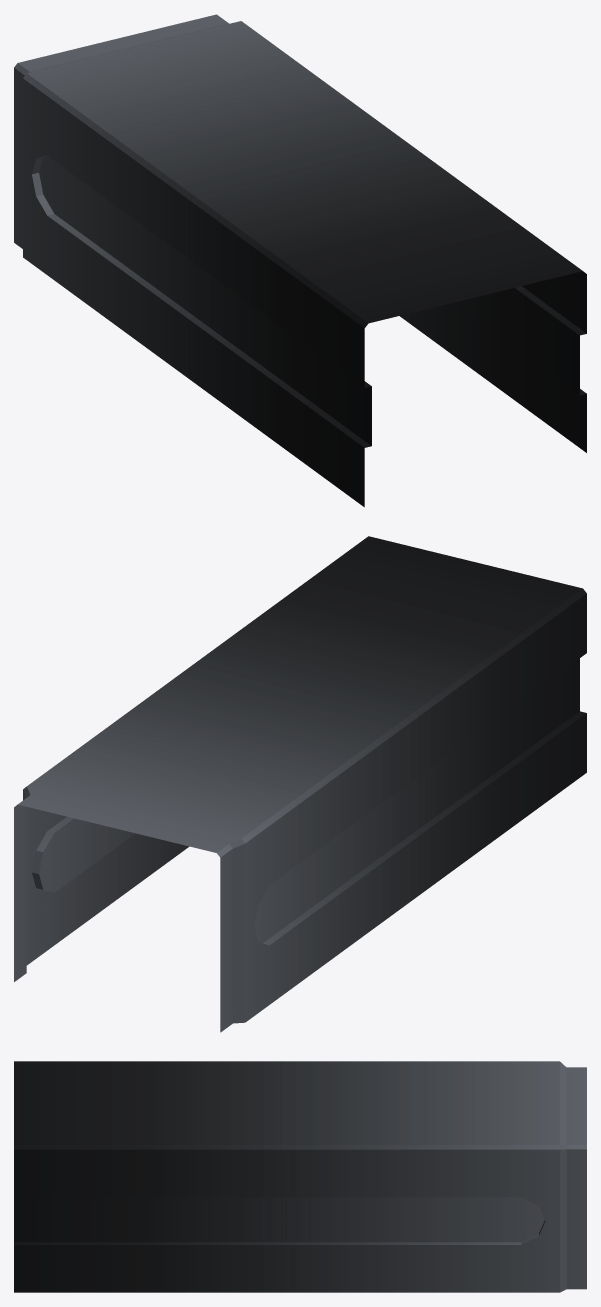
Rendered from Entrance 01 Btm.FBX.
3 views of the same model, one above another, from view 1: azimuth 30°, elevation 25°; view 2: azimuth 150°, elevation 25°; view 3: azimuth 270°, elevation 25° (orthographic). The views are drawn at different scales.
Visible parts, largest first — view 1: Entrance 01 Btm; view 2: Entrance 01 Btm; view 3: Entrance 01 Btm.
Boxes of the visible parts, bbox=[...] form: Entrance 01 Btm: bbox=[14, 14, 586, 507]; Entrance 01 Btm: bbox=[14, 536, 586, 1032]; Entrance 01 Btm: bbox=[14, 1061, 586, 1292].
Bounding box in the file's own units: 286 × 225 × 800.
